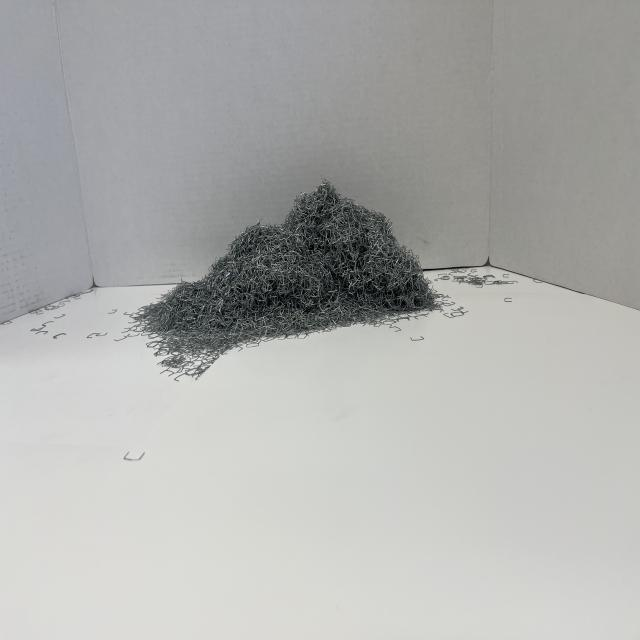staples: (121, 176, 440, 383)
